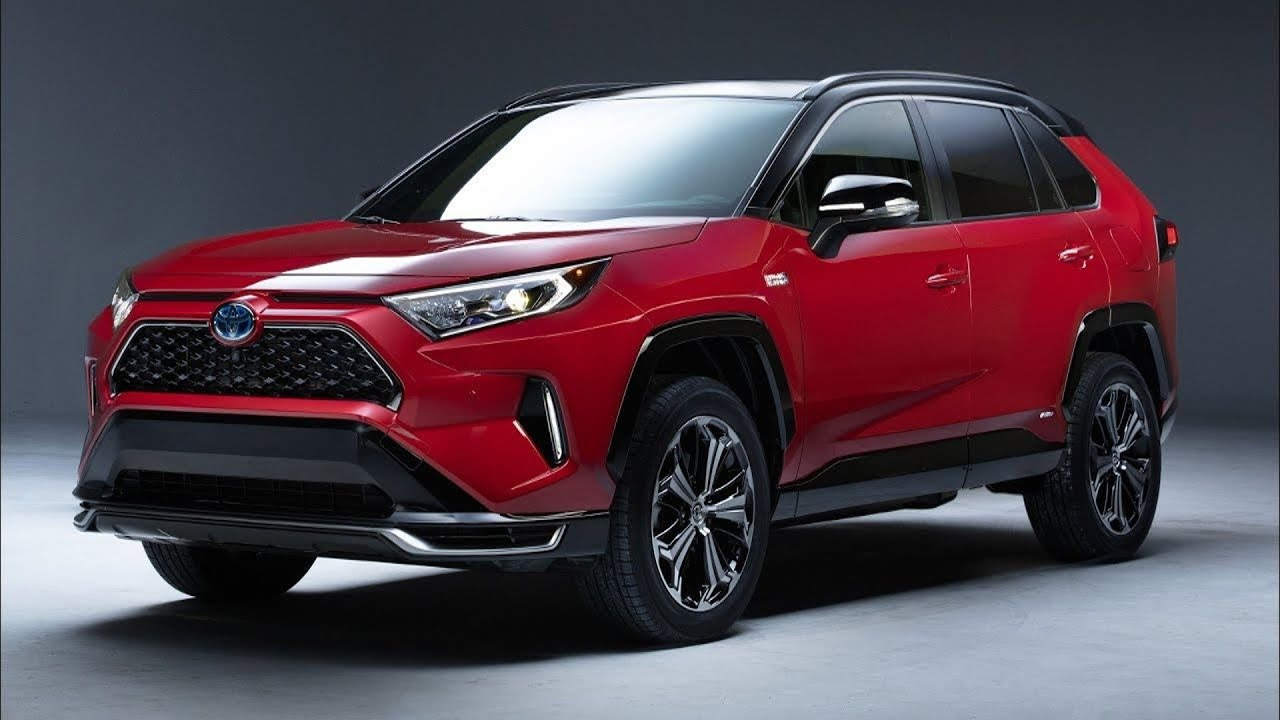car: (72, 69, 1180, 649)
